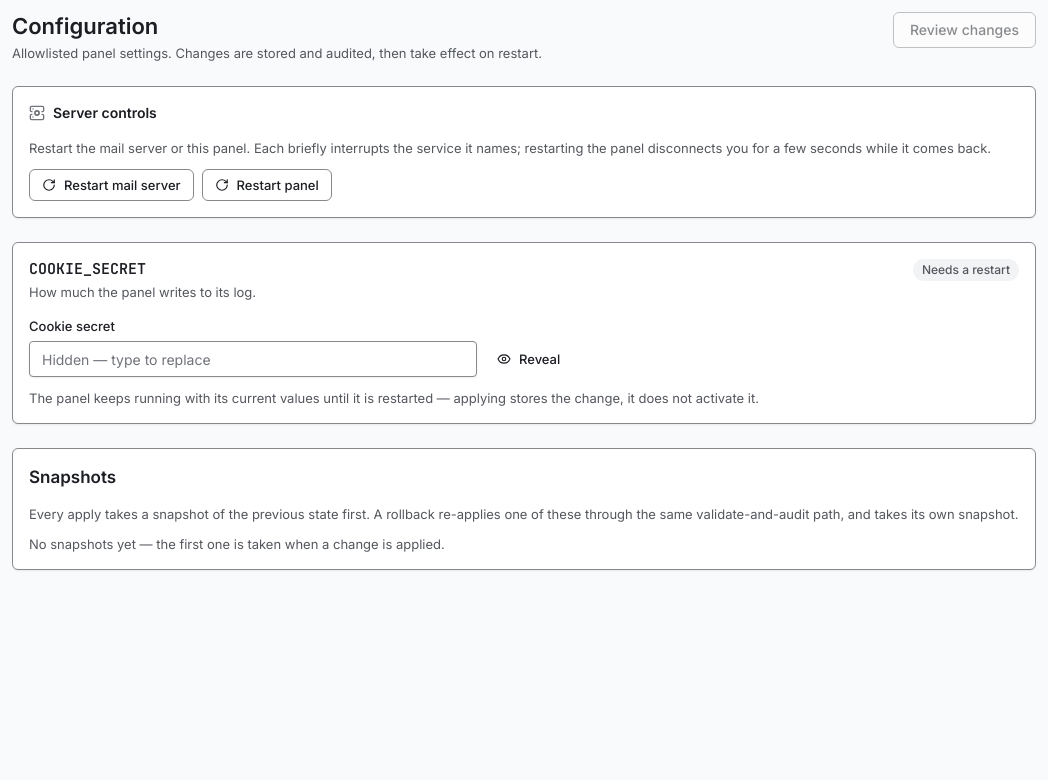
Test: ConfigPage — secrets (SECURITY.md §7.6) › reveals only when asked, through the audited POST
Step 1. Click the button "Reveal" → (529, 359), box top-left (485, 343), bottom-right (572, 375)
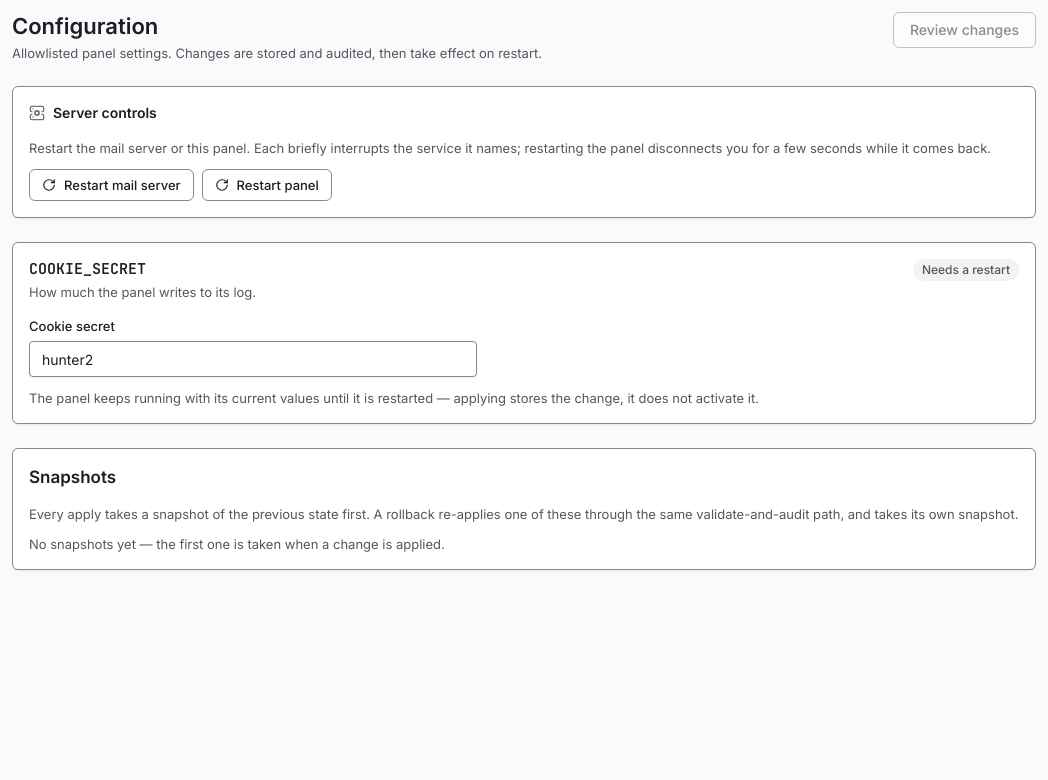
Expected: the field showing "hunter2" is shown, top-left (29, 341), bottom-right (477, 377)
